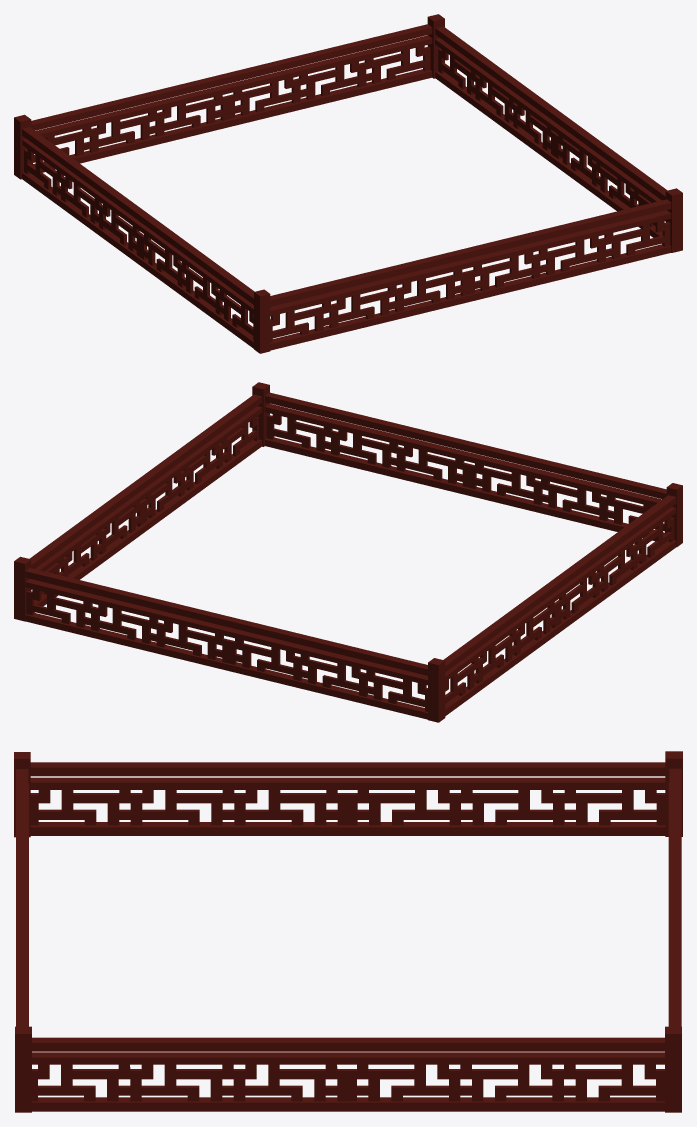
Rendered from fence6.fbx.
3 views of the same model, one above another, from view 1: azimuth 30°, elevation 25°; view 2: azimuth 150°, elevation 25°; view 3: azimuth 270°, elevation 25° (orthographic). The views are drawn at different scales.
Parts seen in each view (by area): view 1: fence6; view 2: fence6; view 3: fence6.
Part boxes in pixels (x1,y1,x2,y2): fence6: (14,14,682,353); fence6: (14,382,682,722); fence6: (14,751,682,1112).
Bounding box in the file's own units: 1022 × 132 × 1022.
